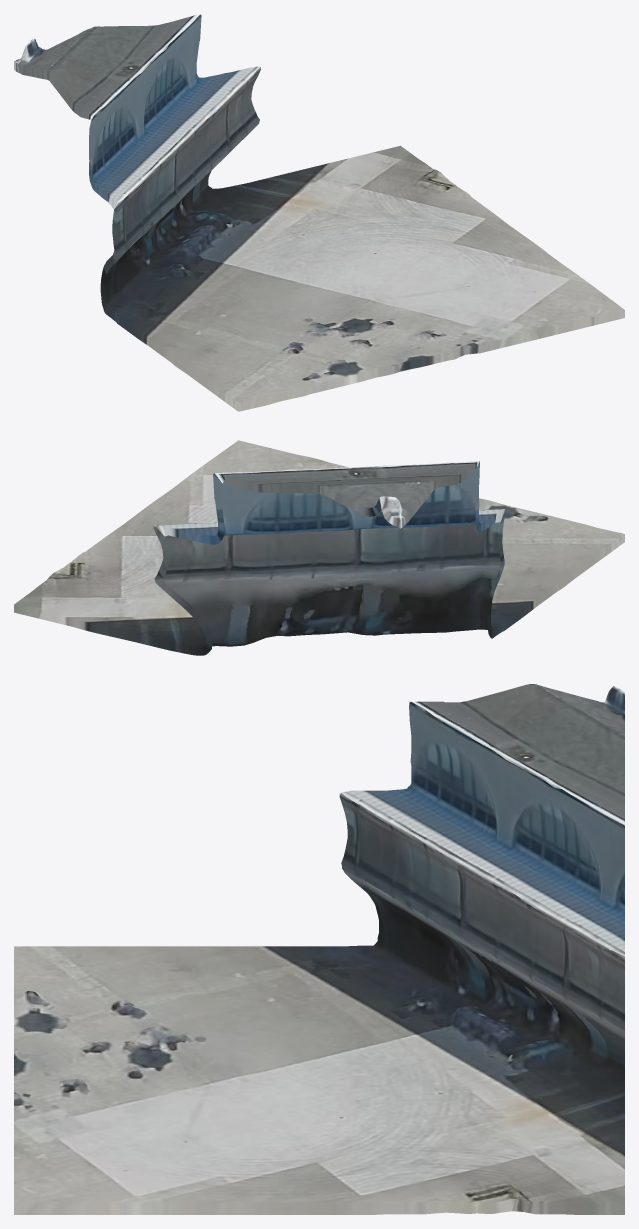
The model's file is z20-167793-405221-h0-yup-uvflip-v3-world.glb.
3 views of the same model, one above another, from view 1: azimuth 30°, elevation 25°; view 2: azimuth 150°, elevation 25°; view 3: azimuth 270°, elevation 25° (orthographic). The views are drawn at different scales.
Size of the model in its own units: 30.16 by 15.36 by 30.32.
1 material, 1 textured.
